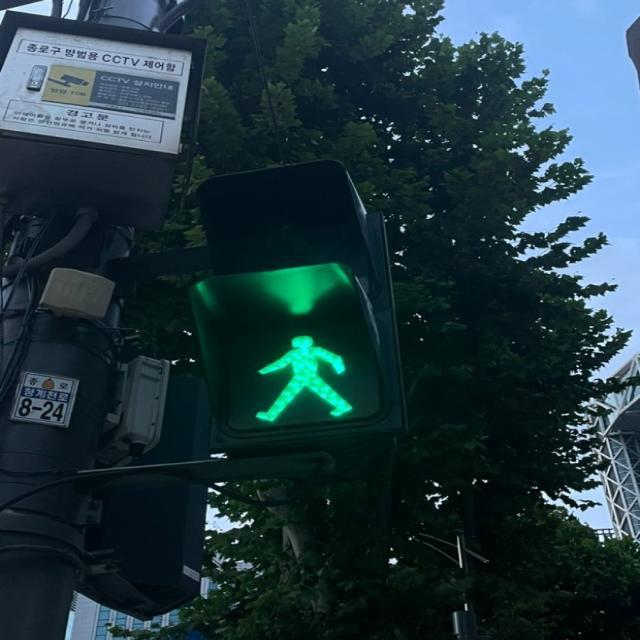green_light: (230, 322, 376, 432)
